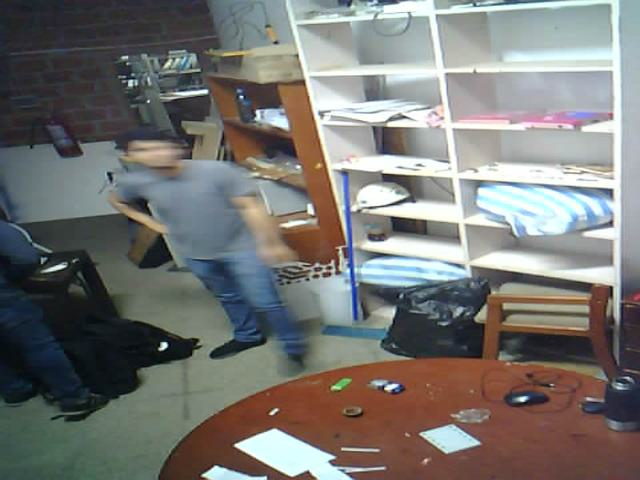person: (108, 108, 336, 387), (0, 156, 128, 438)
